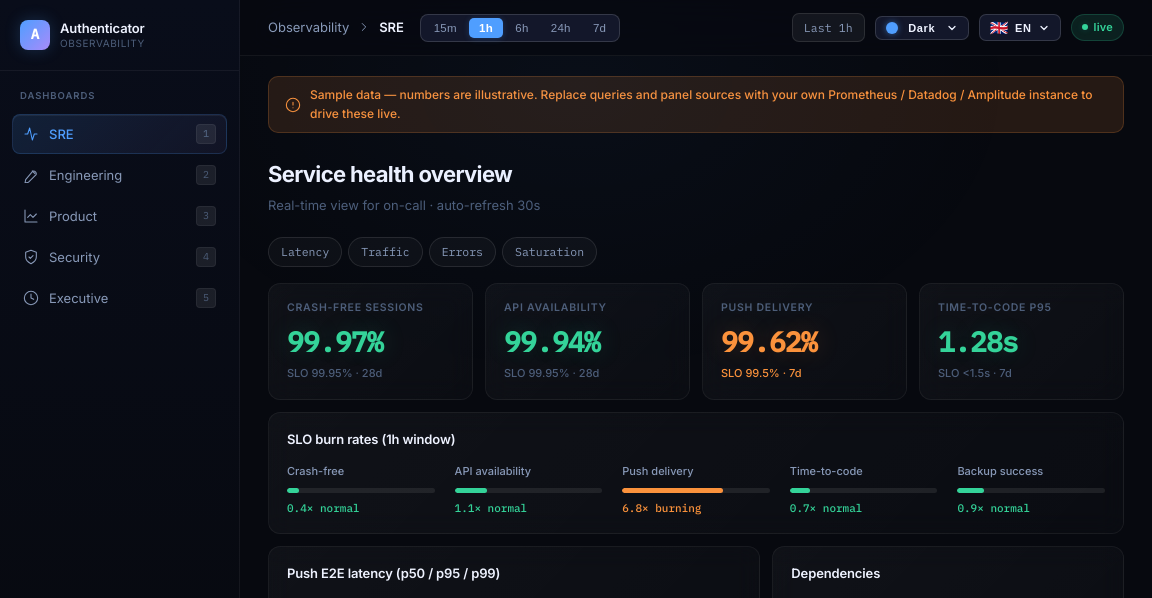
Test case: Language selector — French (FR) › switches to French and translates the SRE dashboard title
What coordinates should you click on to do the following:
click the button with aria-label "select language"
I would click on:
 (1020, 28)
Its box is [979, 14, 1061, 41].
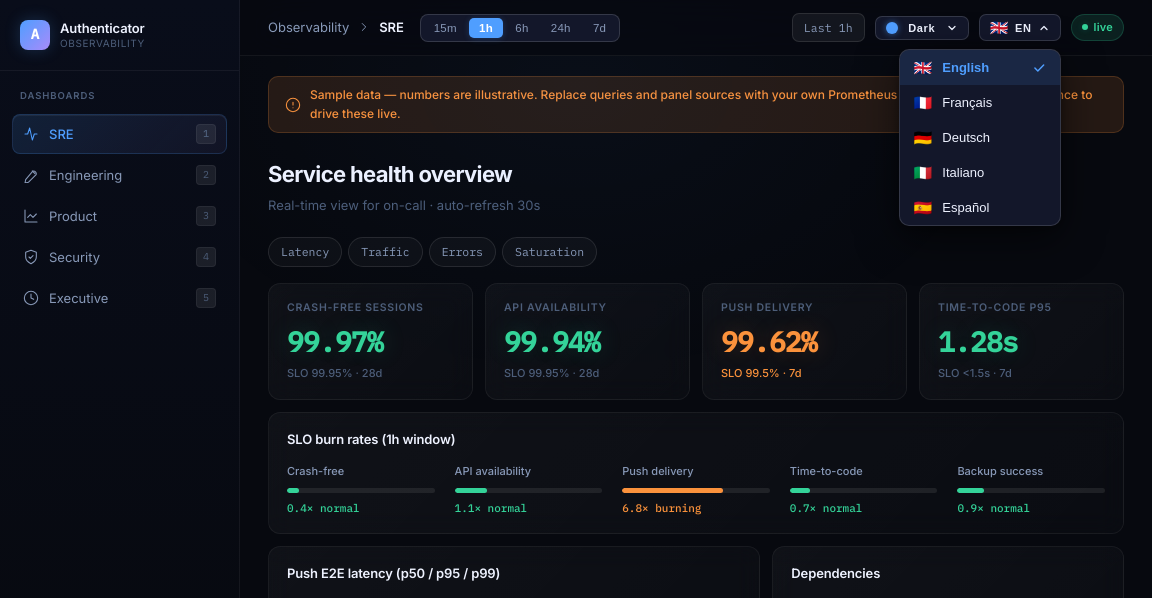
What coordinates should you click on to do the following:
click the text "Français"
I would click on:
 (967, 102)
Its box is [942, 95, 992, 110].
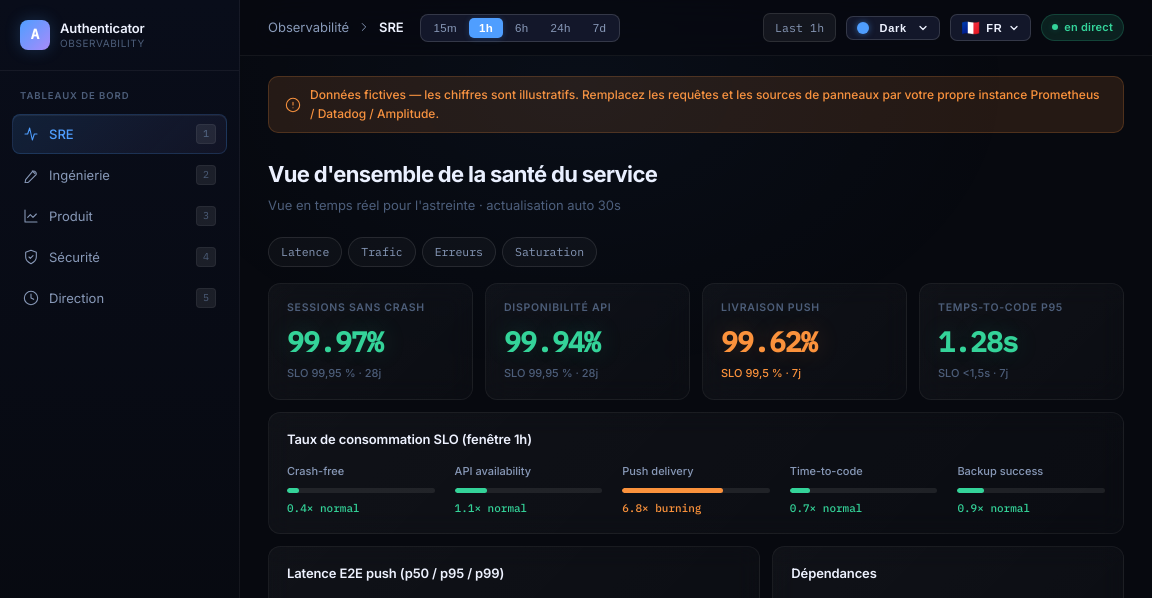
Expected: the text "Vue d'ensemble de la santé du service" is shown, [268, 161, 657, 187]
